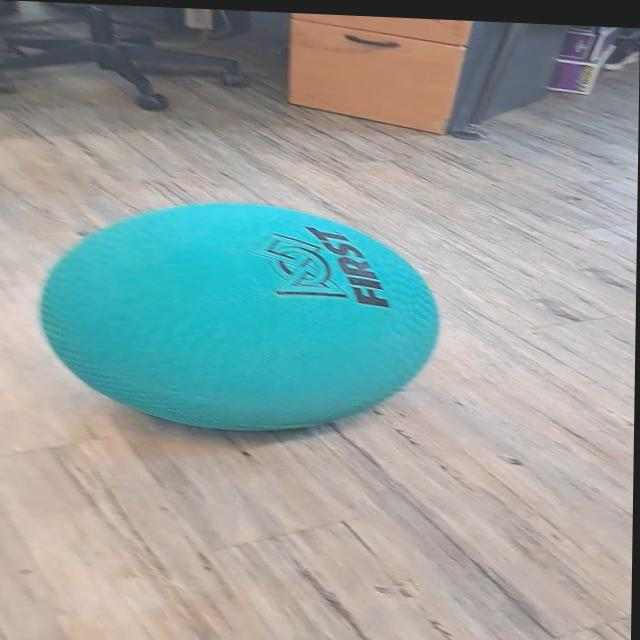ALGAE: (36, 192, 443, 441)
